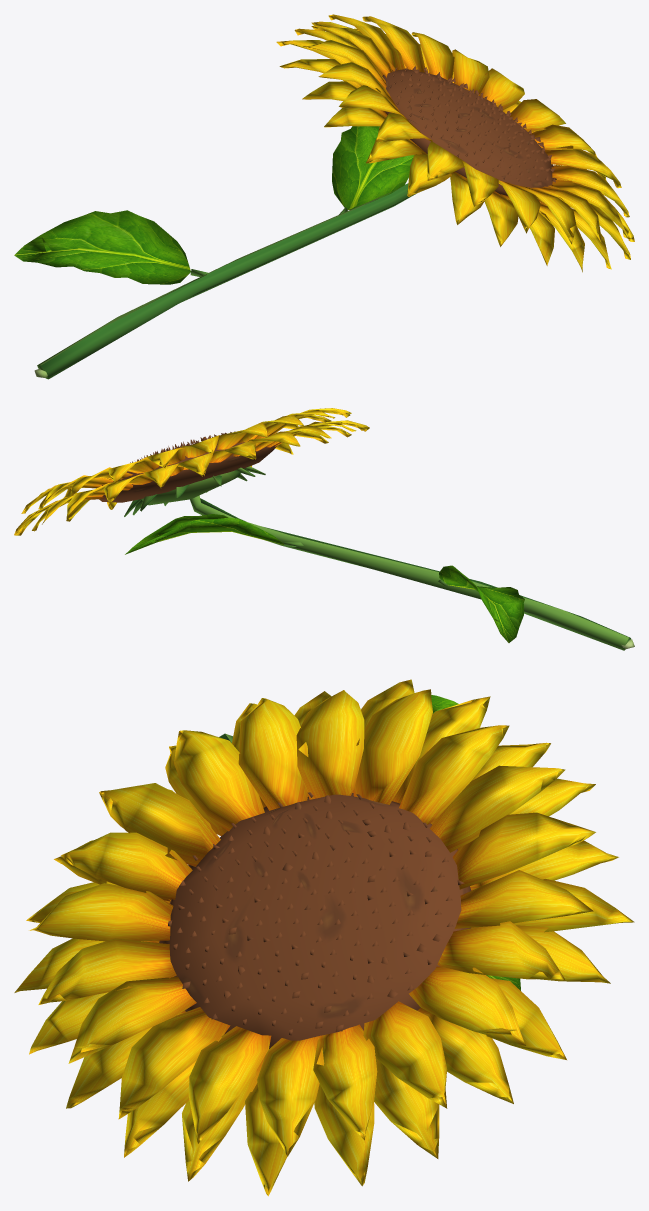
Rendered from NP_Sunflower_Harvest_LOD1.fbx.
3 views of the same model, one above another, from view 1: azimuth 30°, elevation 25°; view 2: azimuth 150°, elevation 25°; view 3: azimuth 270°, elevation 25° (orthographic). The views are drawn at different scales.
Visible parts, largest first — view 1: NP_Sunflower_Harvest; view 2: NP_Sunflower_Harvest; view 3: NP_Sunflower_Harvest.
Part boxes in pixels (left/top/right/bottom): NP_Sunflower_Harvest: left=14, top=14, right=634, bottom=379; NP_Sunflower_Harvest: left=14, top=408, right=634, bottom=650; NP_Sunflower_Harvest: left=14, top=679, right=634, bottom=1196.
Bounding box in the file's own units: 64.03 × 20.33 × 36.63.
